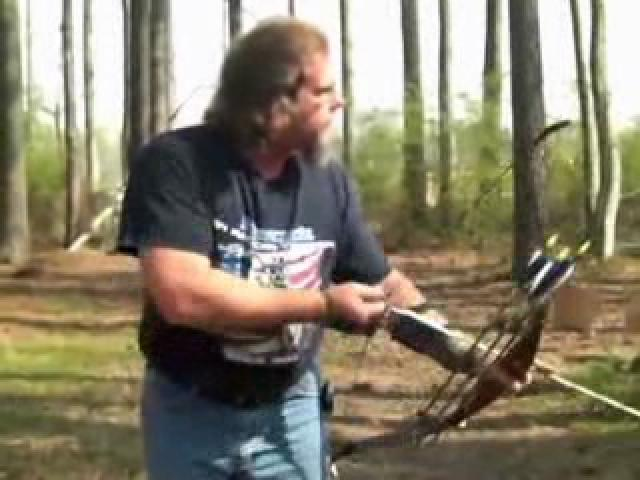I: (131, 16, 558, 415)
